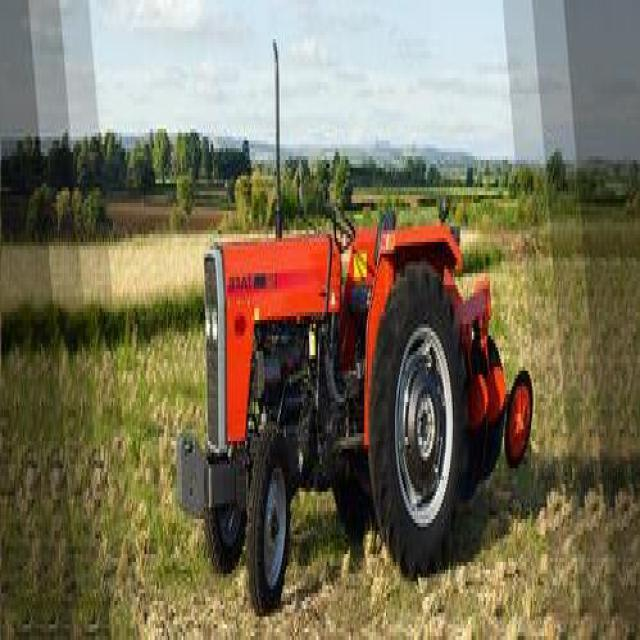Tratores - v5 YOLO V8L 2024-11-13: (173, 0, 484, 593)
